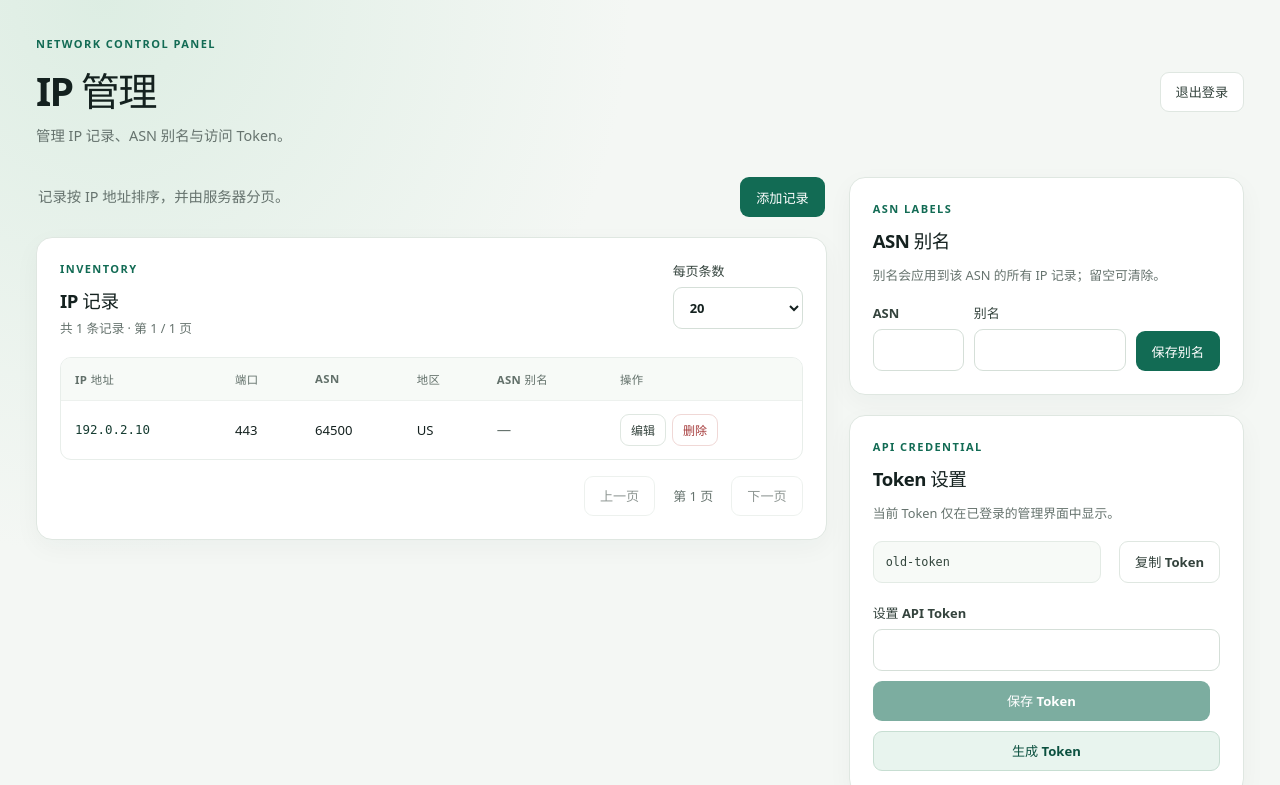
it: ASN alias and token settings › sets, clears the form for, and displays the current plaintext token
The width and height of the screenshot is (1280, 785).
Expected: the text named "当前 API Token" reads "old-token", [886, 555, 950, 569]
Type "replacement-token" into the field labelled "设置 API Token" at [1046, 650], box [873, 629, 1220, 671]
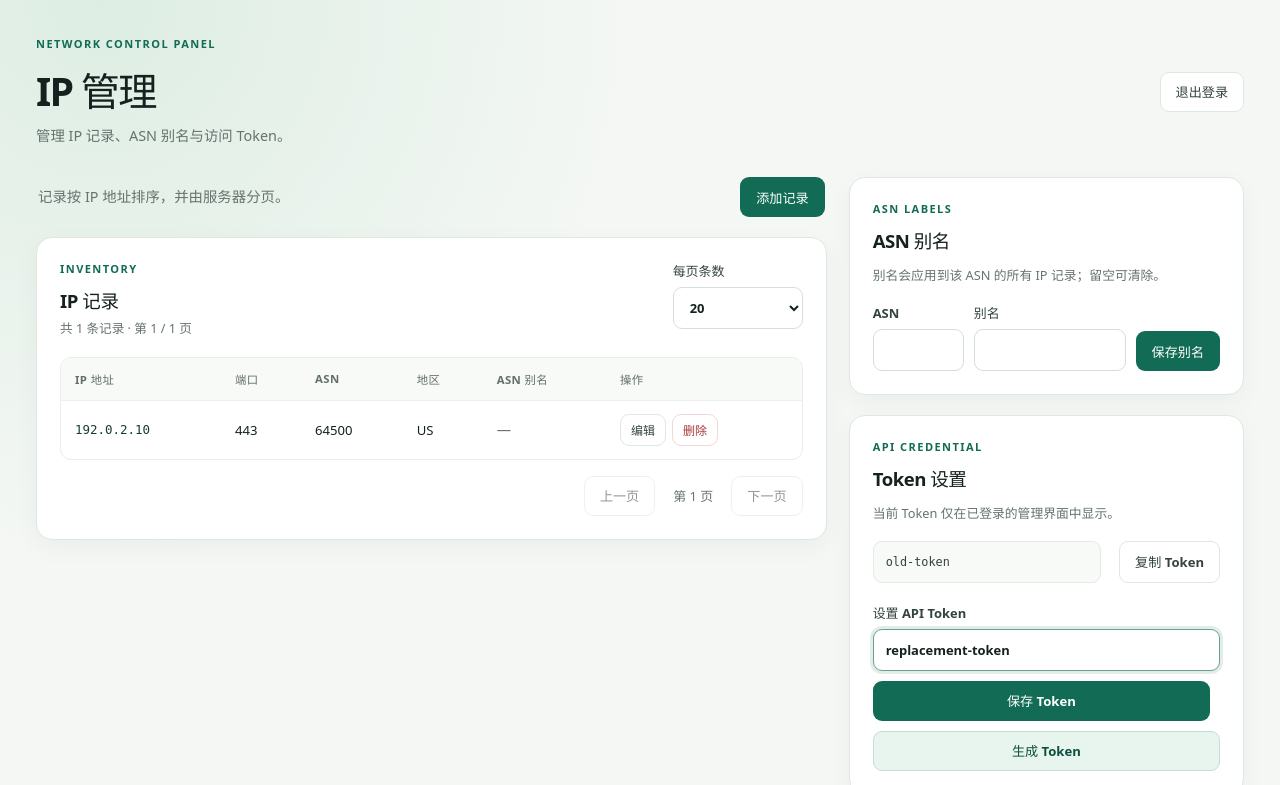
Click the button "保存 Token" at [1041, 701], box [873, 681, 1210, 721]
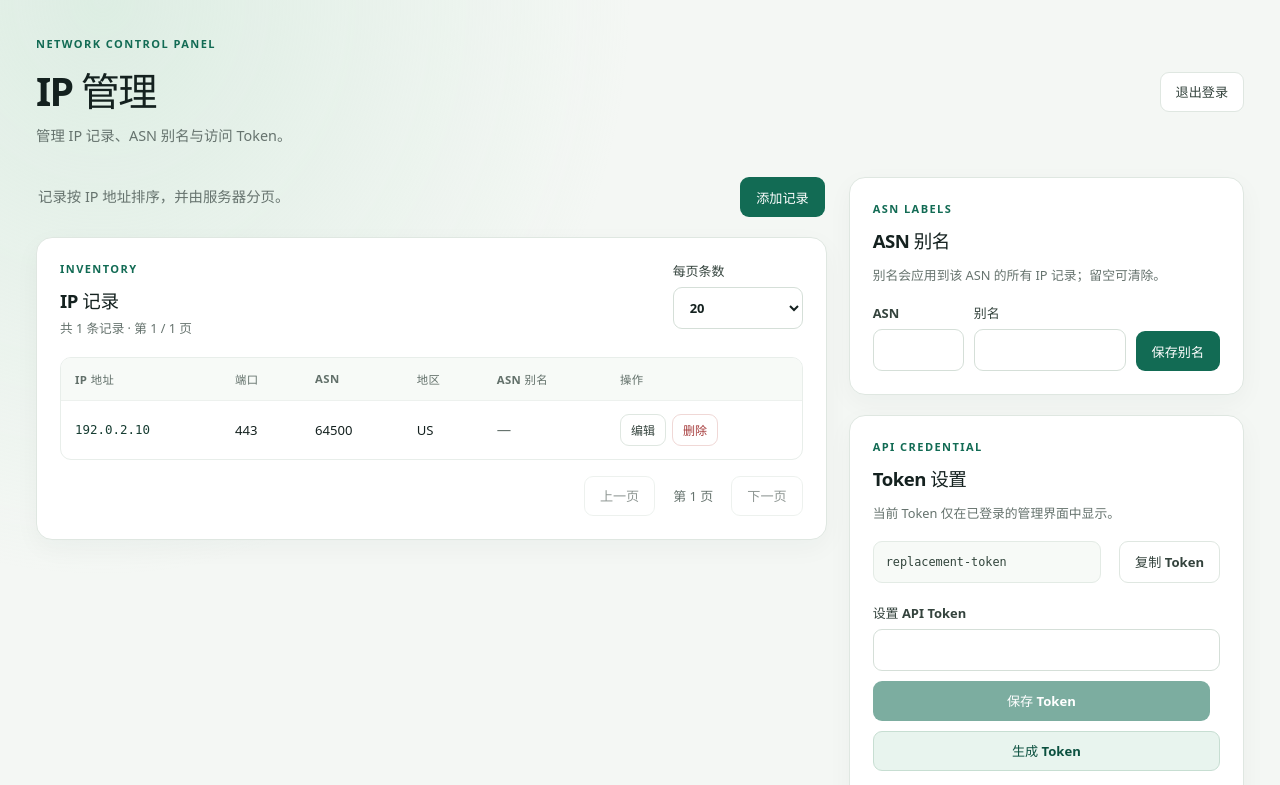
Expected: the field labelled "设置 API Token" is empty, [873, 629, 1220, 671]
Expected: the text named "当前 API Token" reads "replacement-token", [886, 555, 1007, 569]
